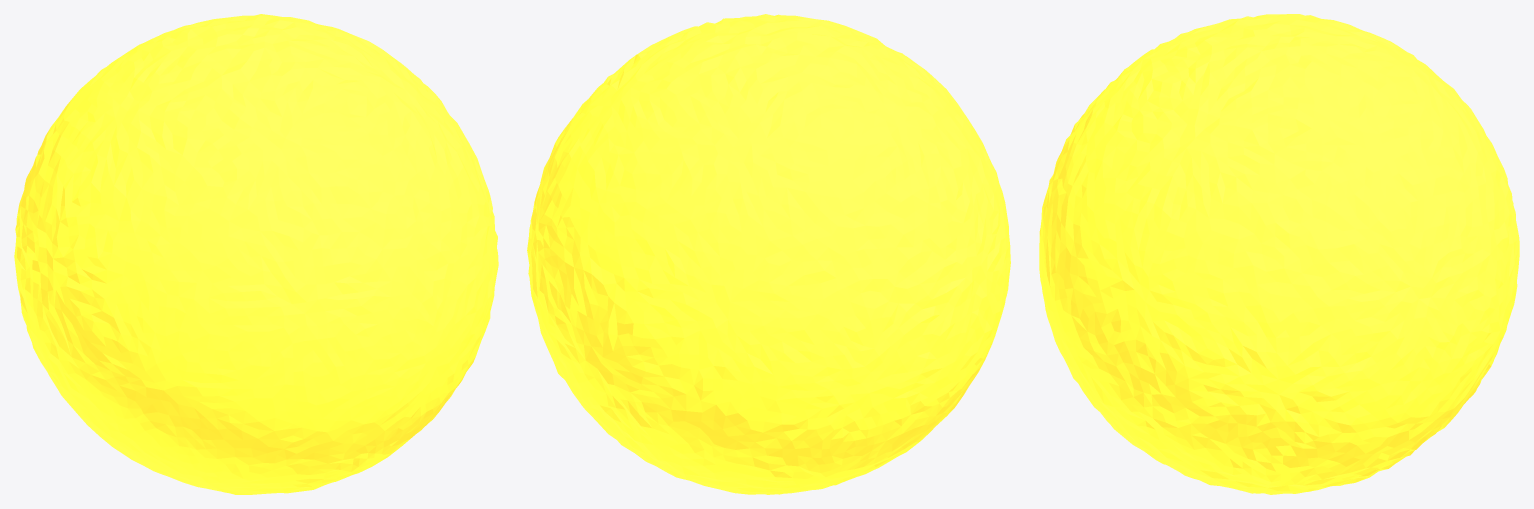
Rendered from sun.gltf.
3 renders of one model, left to right at view 1: azimuth 30°, elevation 25°; view 2: azimuth 150°, elevation 25°; view 3: azimuth 270°, elevation 25°, orthographic.
Parts seen in each view (by area): view 1: Icosphere; view 2: Icosphere; view 3: Icosphere.
Part boxes in pixels (x1=…): Icosphere: x1=14, y1=14, x2=498, y2=494; Icosphere: x1=527, y1=14, x2=1010, y2=494; Icosphere: x1=1039, y1=14, x2=1519, y2=494.
Bounding box in the file's own units: 90.67 × 90.33 × 90.31.
